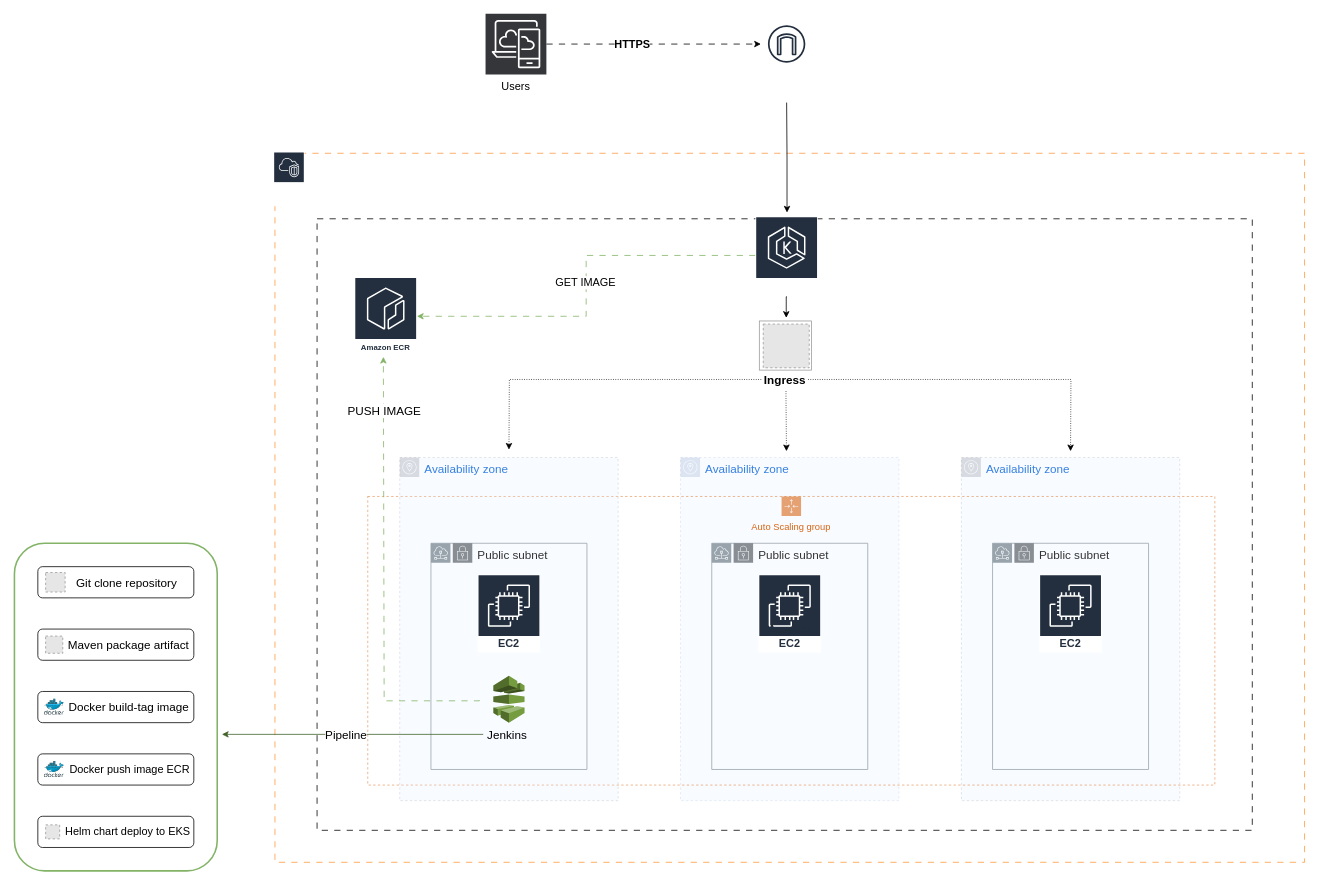
Some shapes in this 1318 by 885 pixel diagram are drawn without their labels. Grey dashed boxes stand in for pictures. Here are the shapes that lost their labels. From the top down, the centre of each, then its label:
At point (786, 43): "Internet gateway".
At point (289, 178): "Amazon VPC".
At point (786, 255): "EKS".
